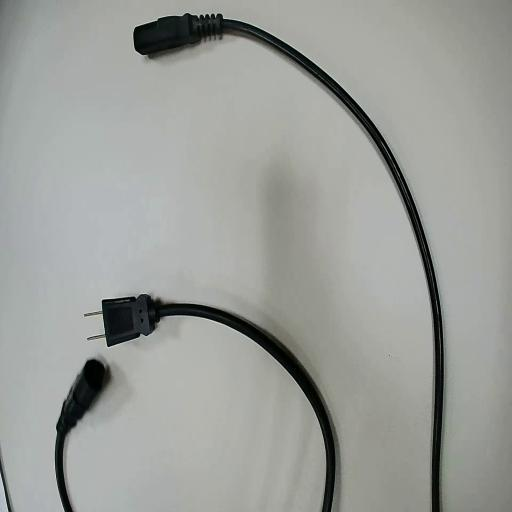wire: (134, 14, 443, 511), (103, 296, 335, 511), (56, 360, 109, 511)
